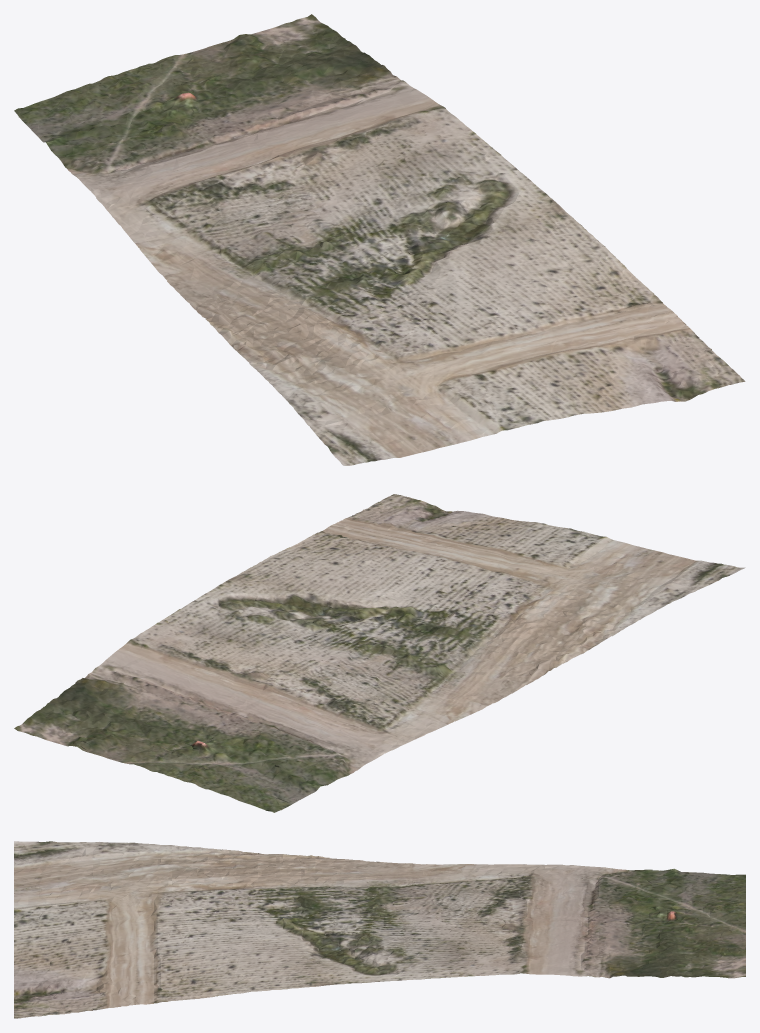
File: MODELO5.glb
3 views of the same model, one above another, from view 1: azimuth 30°, elevation 25°; view 2: azimuth 150°, elevation 25°; view 3: azimuth 270°, elevation 25° (orthographic). The views are drawn at different scales.
Size of the model in its own units: 54.62 by 7.64 by 102.
Materials: 1 (1 with a texture image).
